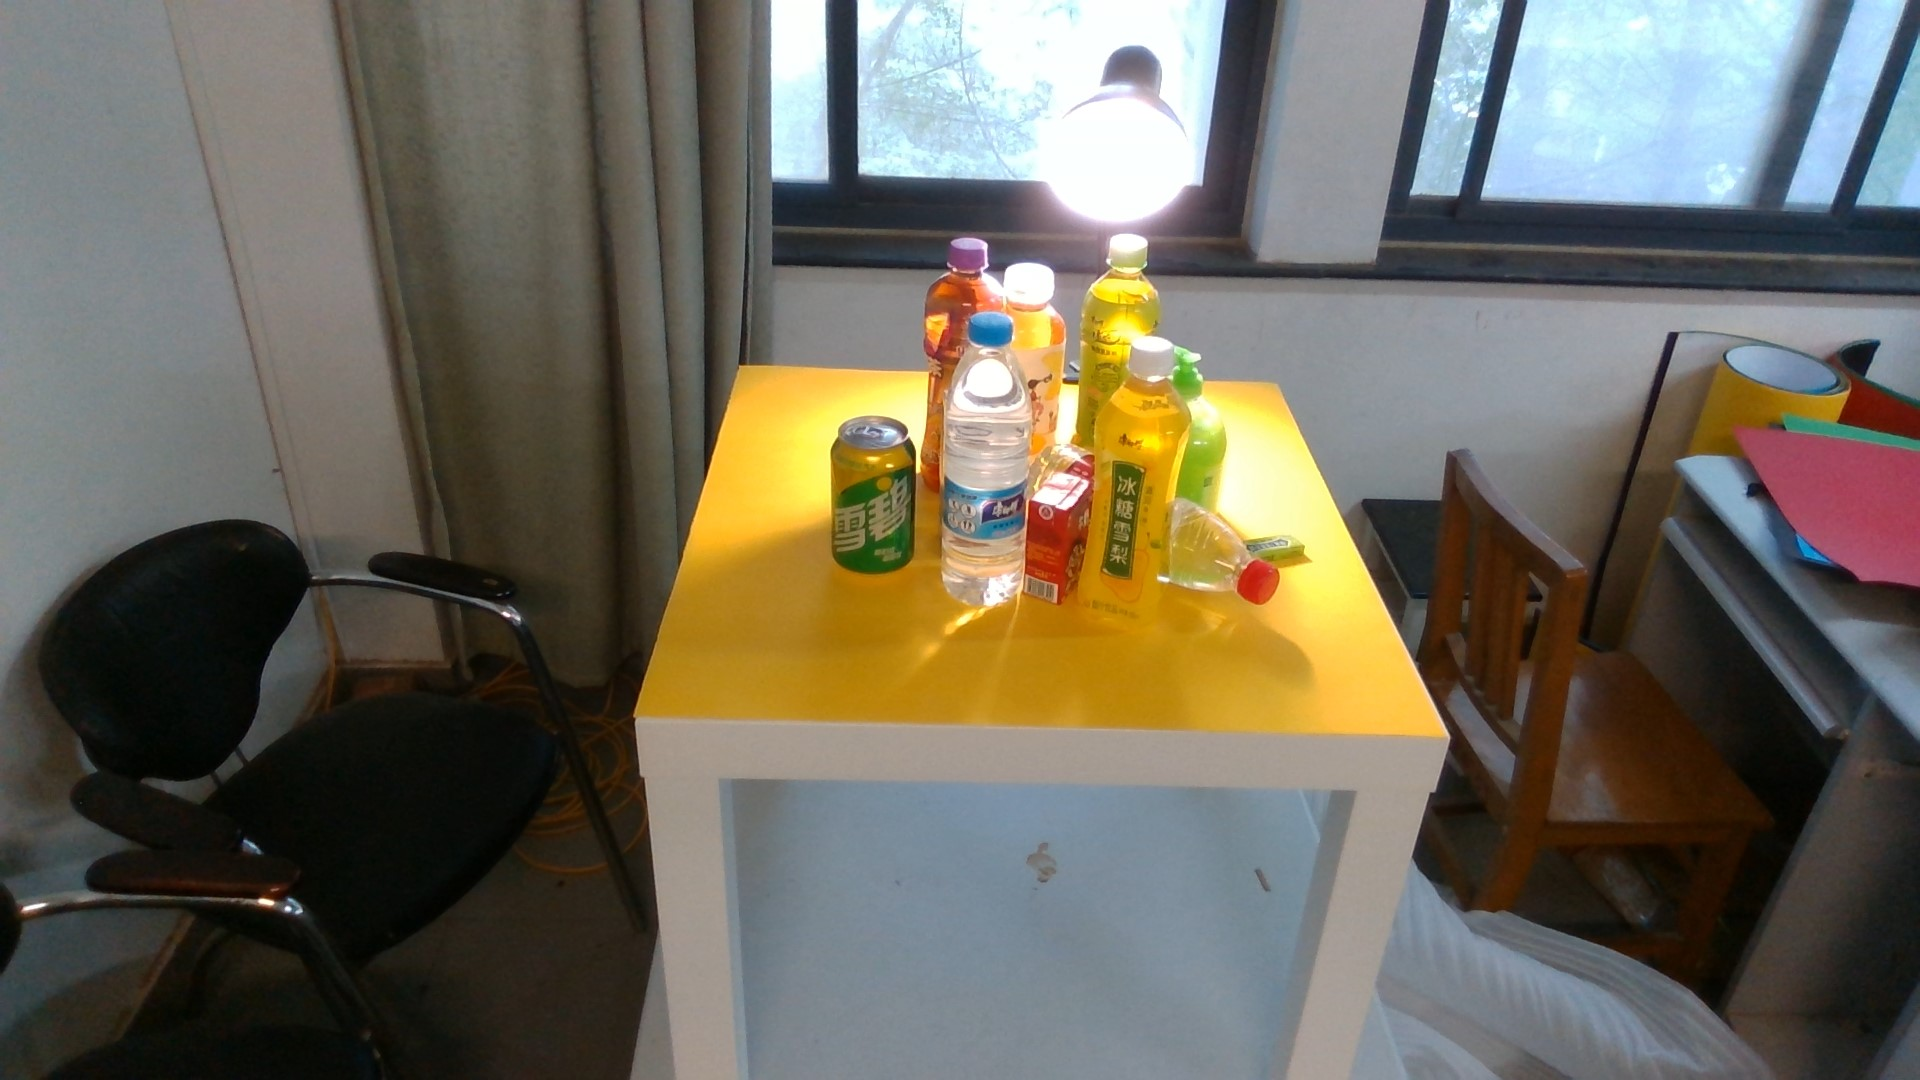BB002: (1247, 527, 1300, 562)
BB012: (1026, 480, 1084, 605)
ZA002: (1185, 344, 1230, 496)
ZC001: (833, 414, 919, 574)
ZC009: (923, 237, 1004, 309)
ZC010: (1083, 231, 1160, 338)
ZC011: (1091, 338, 1160, 618)
ZC012: (1007, 257, 1068, 363)
ZC014: (1164, 498, 1275, 605)
ZC019: (942, 310, 1029, 607)
